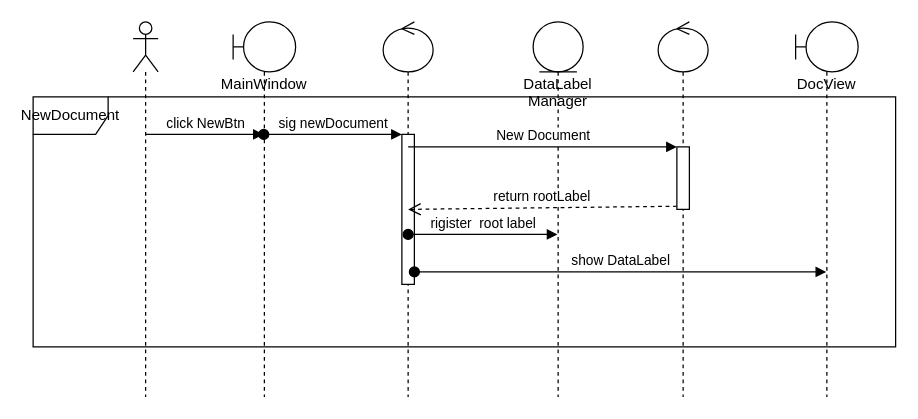
Image size: 918x419. Some labels were removed from this diagram. Each missing label, with the box of its shape:
DocumentManager: (657, 21, 708, 397)
MainApplication: (382, 21, 433, 397)
